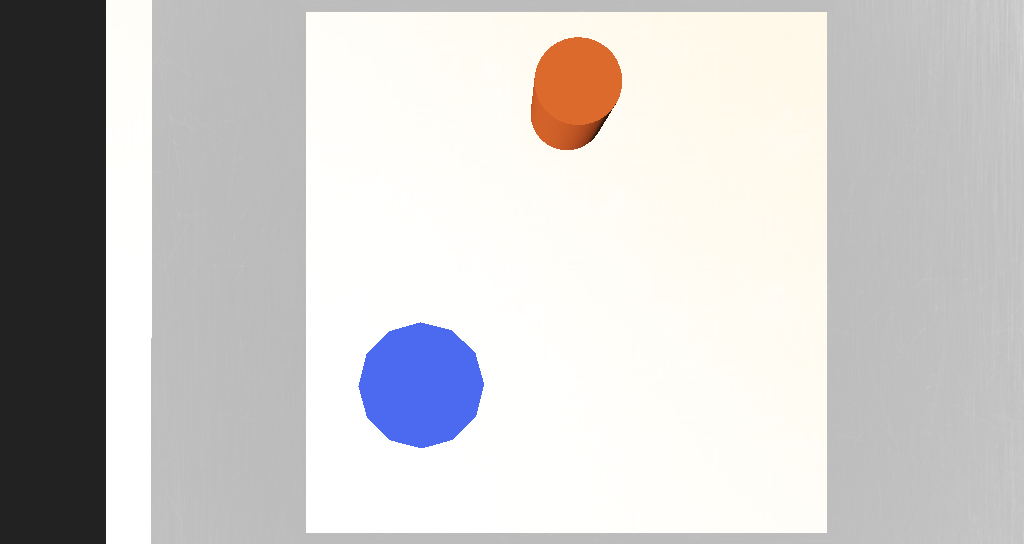cone: (488, 179, 536, 222)
cylinder: (391, 286, 458, 334)
sphere: (475, 379, 563, 441)
